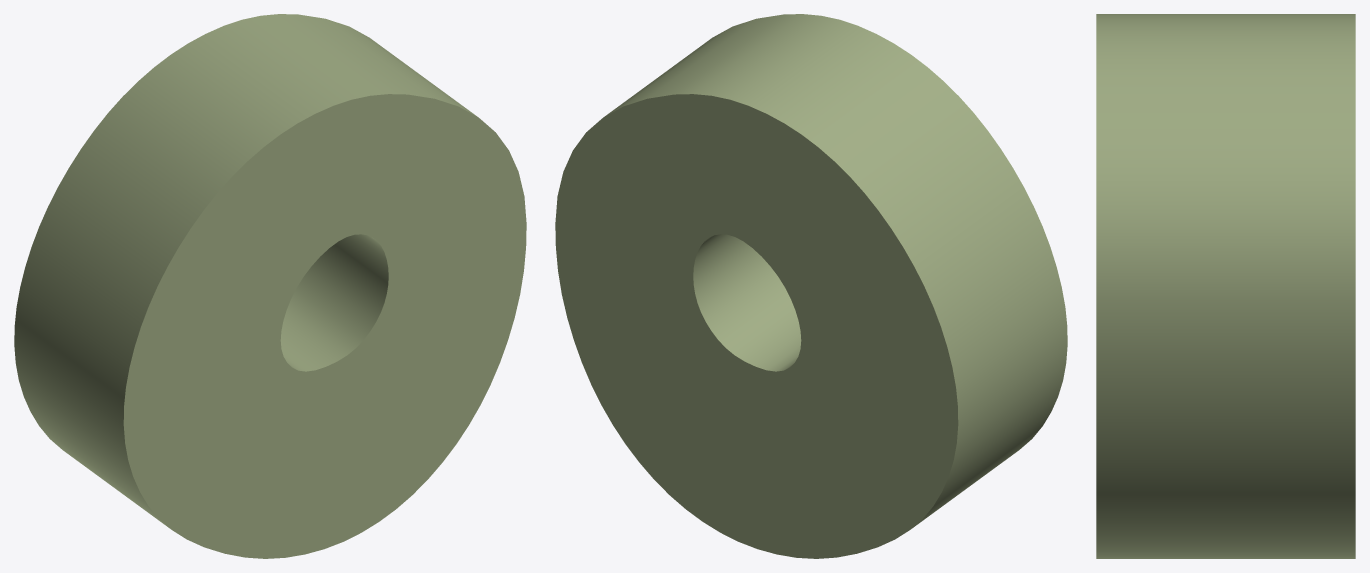
Rendered from small-o.fbx.
The picture shows the model from 3 angles, left to right: view 1: azimuth 30°, elevation 25°; view 2: azimuth 150°, elevation 25°; view 3: azimuth 270°, elevation 25°; orthographic projection. The views are drawn at different scales.
Visible parts, largest first — view 1: small_o; view 2: small_o; view 3: small_o.
Part boxes in pixels (x1=…): small_o: x1=14, y1=14, x2=526, y2=558; small_o: x1=555, y1=14, x2=1067, y2=558; small_o: x1=1096, y1=14, x2=1355, y2=558.
Bounding box in the file's own units: 5.32 × 5.59 × 2.5.
